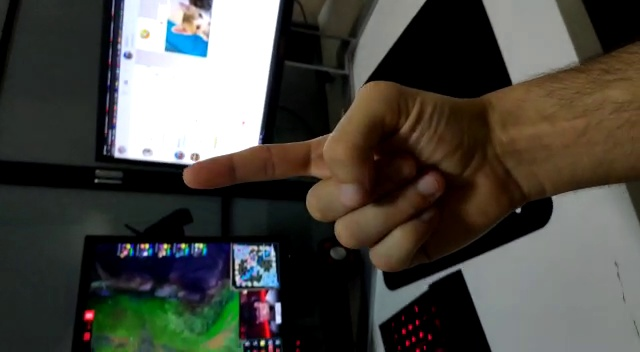One: (128, 96, 455, 243)
